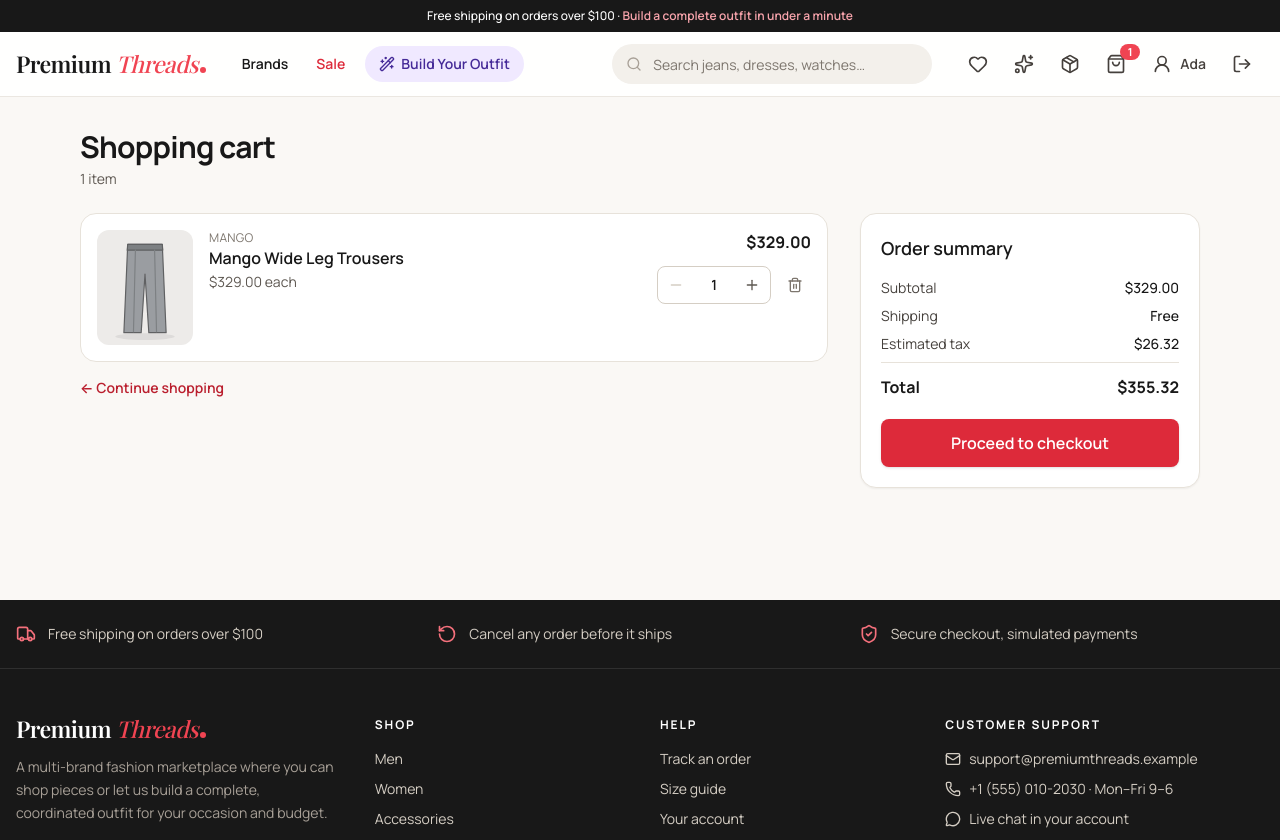
Test: cart and checkout › shows server-computed totals and updates quantities through the API
The width and height of the screenshot is (1280, 840).
Expected: the heading "Shopping cart" is shown, [80,126,275,167]
Expected: the text "$355.32" is shown, [1117,375,1179,399]
Click the button named "Increase quantity". click: point(752, 285)
box: [734,267,770,303]
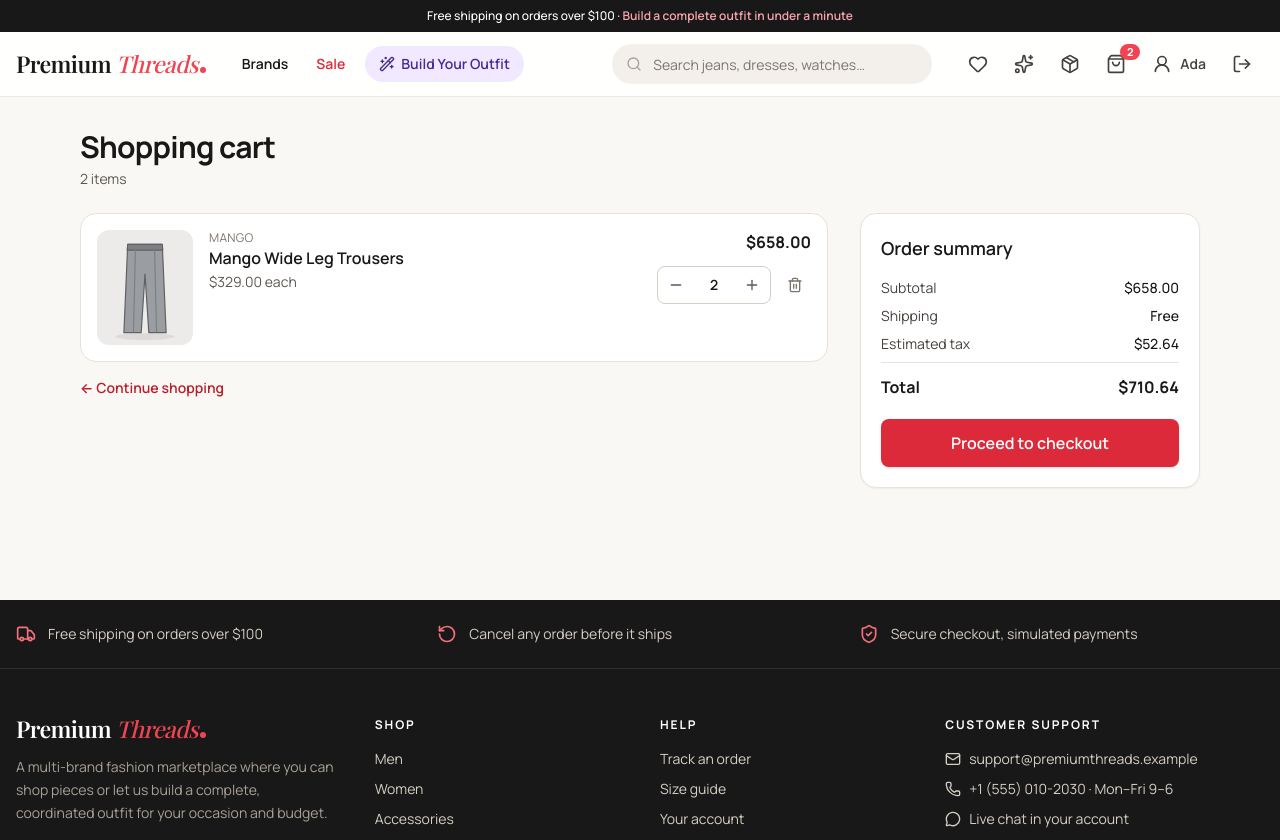
Expected: the text "$710.64" is shown, [1118,375,1179,399]
